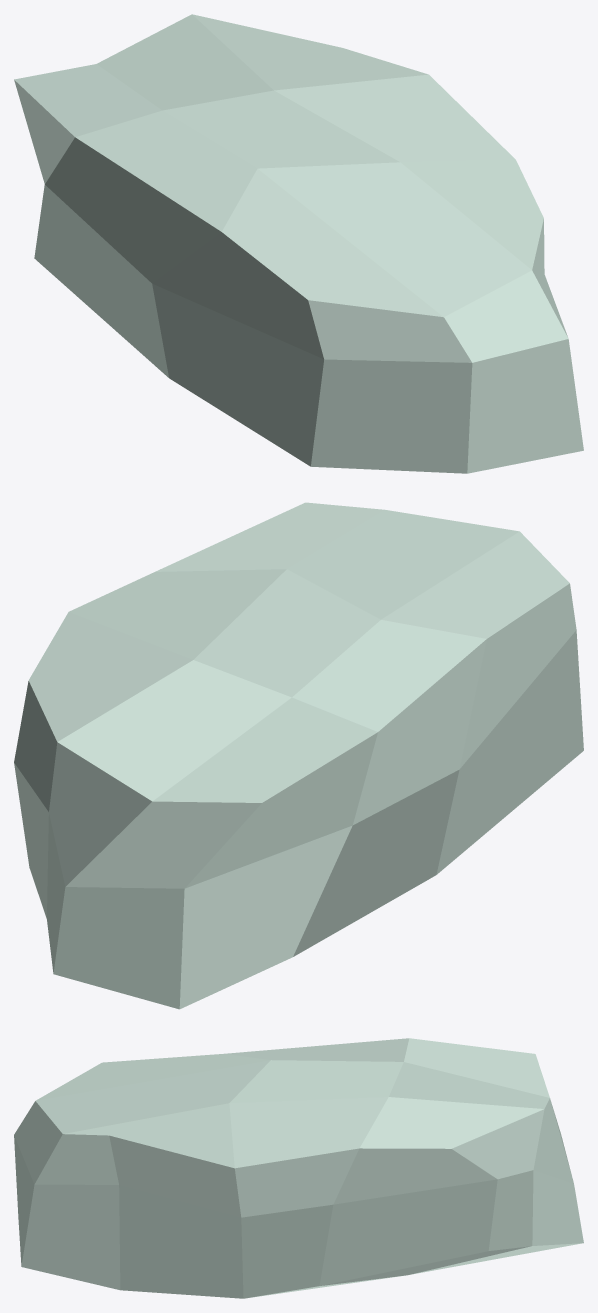
File: Rock_16Color.fbx
3 views of the same model, one above another, from view 1: azimuth 30°, elevation 25°; view 2: azimuth 150°, elevation 25°; view 3: azimuth 270°, elevation 25° (orthographic). The views are drawn at different scales.
Visible parts, largest first — view 1: Rock_16; view 2: Rock_16; view 3: Rock_16.
Boxes of the visible parts, x1=… form: Rock_16: x1=14, y1=14, x2=583, y2=473; Rock_16: x1=14, y1=502, x2=583, y2=1009; Rock_16: x1=14, y1=1038, x2=583, y2=1298.
Size of the model in its own units: 325 by 211 by 642.
